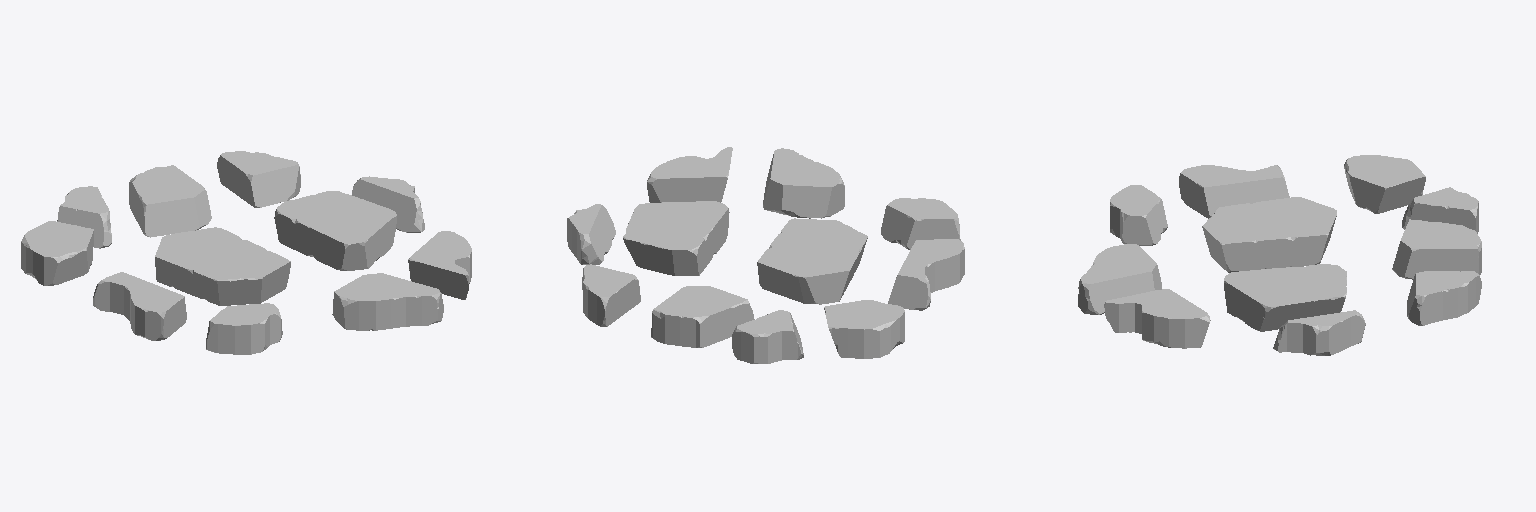
The model's file is stage_shatter.obj.
3 views of the same model, side by side, from view 1: azimuth 30°, elevation 25°; view 2: azimuth 150°, elevation 25°; view 3: azimuth 270°, elevation 25° (orthographic).
Visible parts, largest first — view 1: stage_broken.001; view 2: stage_broken.001; view 3: stage_broken.001.
Part boxes in pixels (x1,y1,x2,y2): stage_broken.001: (21, 151, 471, 354); stage_broken.001: (567, 147, 964, 363); stage_broken.001: (1078, 155, 1481, 355).
Size of the model in its own units: 3.61 by 0.288 by 3.57.